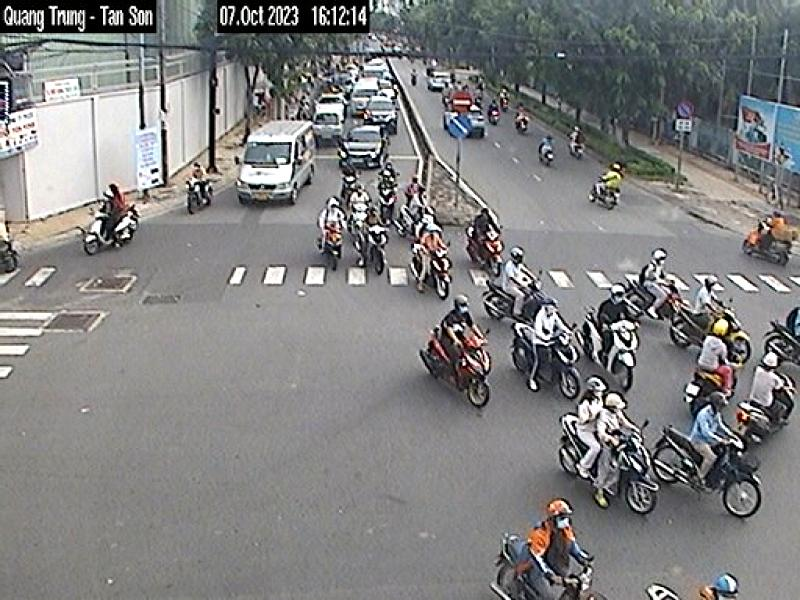car: (236, 119, 314, 208), (340, 126, 388, 170)
